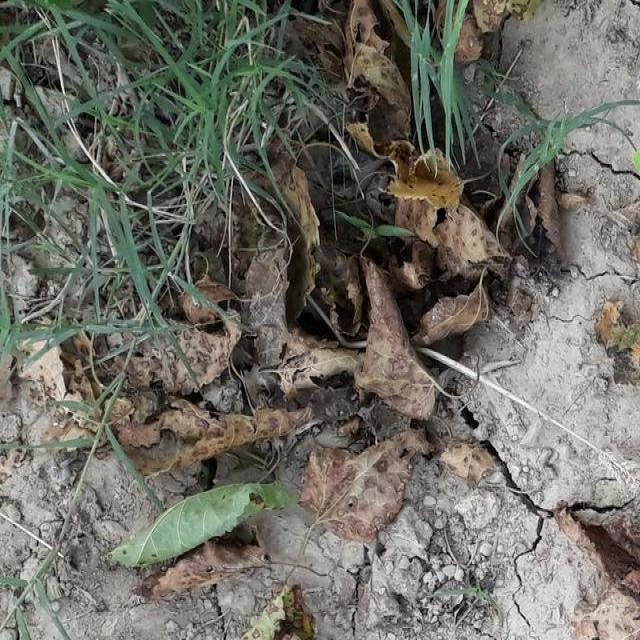weed: (20, 25, 181, 278), (42, 5, 295, 143), (492, 80, 638, 196), (407, 0, 466, 155)
